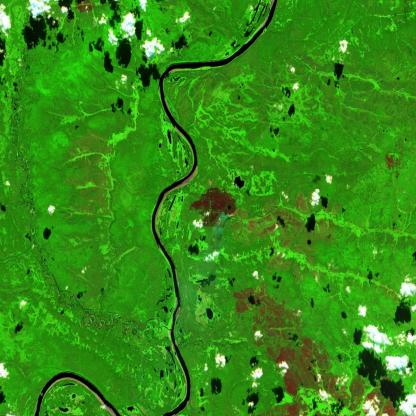fire: (214, 204, 238, 228)
